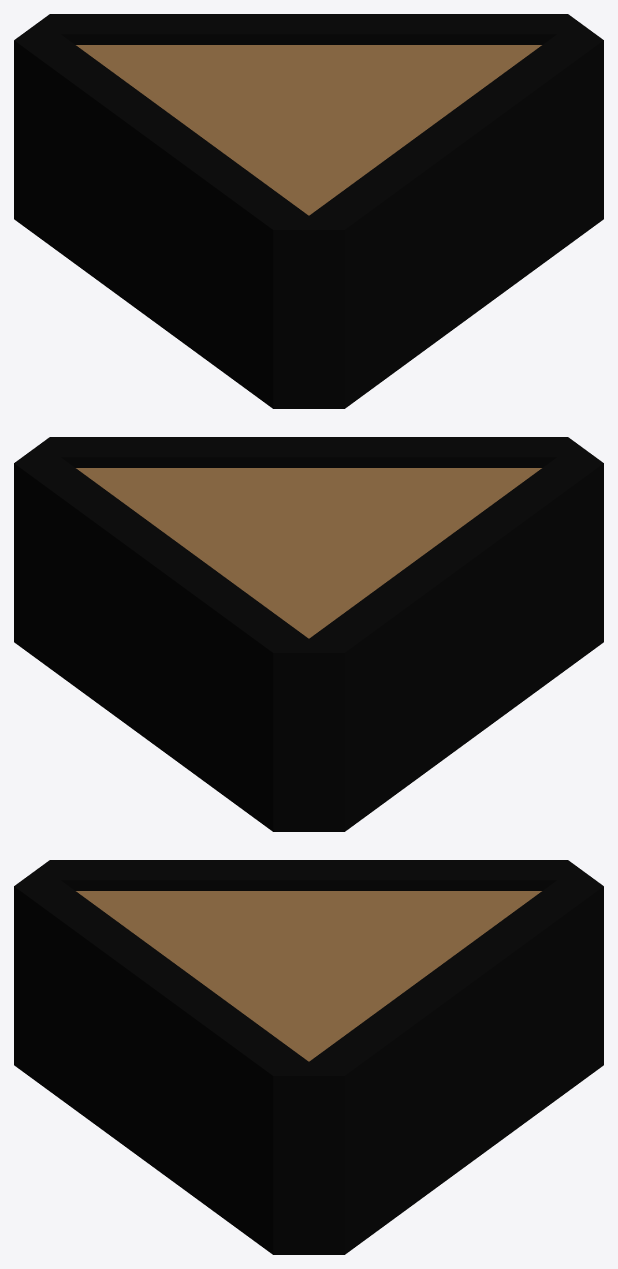
The model's file is FlowerObstacle.FBX.
The picture shows the model from 3 angles, top to bottom: view 1: azimuth 30°, elevation 25°; view 2: azimuth 150°, elevation 25°; view 3: azimuth 270°, elevation 25°; orthographic projection.
Parts seen in each view (by area): view 1: FlowerObstacle; view 2: FlowerObstacle; view 3: FlowerObstacle.
Boxes of the visible parts, x1,y1,x2,y2 form: FlowerObstacle: (14,14,603,408); FlowerObstacle: (14,437,603,831); FlowerObstacle: (14,860,603,1254).
Size of the model in its own units: 214 by 82.71 by 247.
